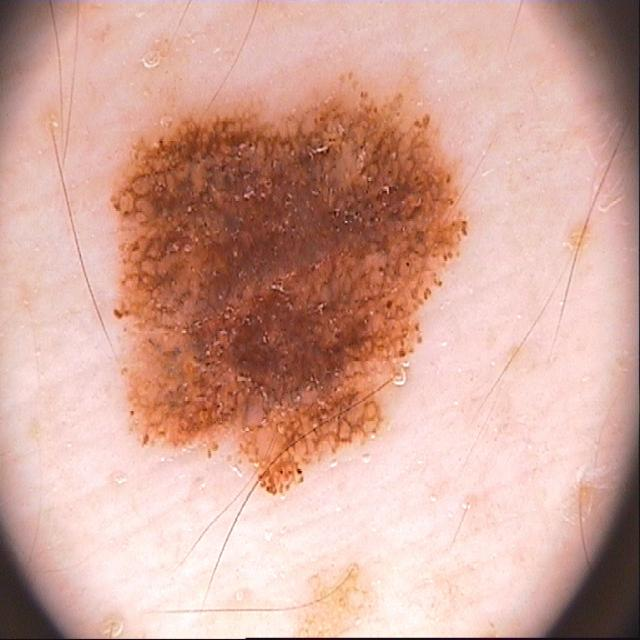Skin-Cancer Nevus: (74, 36, 639, 640)
